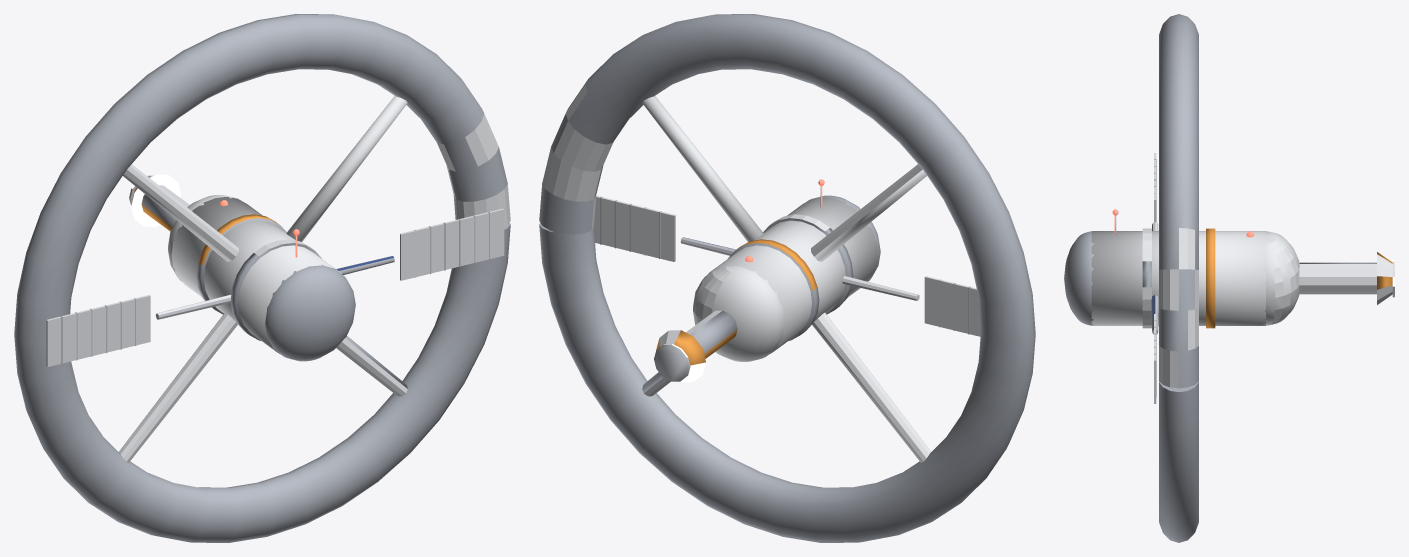
Rendered from space_station.glb.
3 renders of one model, left to right at view 1: azimuth 30°, elevation 25°; view 2: azimuth 150°, elevation 25°; view 3: azimuth 270°, elevation 25°, orthographic. The views are drawn at different scales.
Parts seen in each view (by area): view 1: Space_Station; view 2: Space_Station; view 3: Space_Station.
Part boxes in pixels (x1,y1,x2,y2): Space_Station: (14, 14, 510, 542); Space_Station: (539, 14, 1035, 542); Space_Station: (1064, 14, 1394, 542).
Size of the model in its own units: 66.79 by 66.8 by 41.75.
